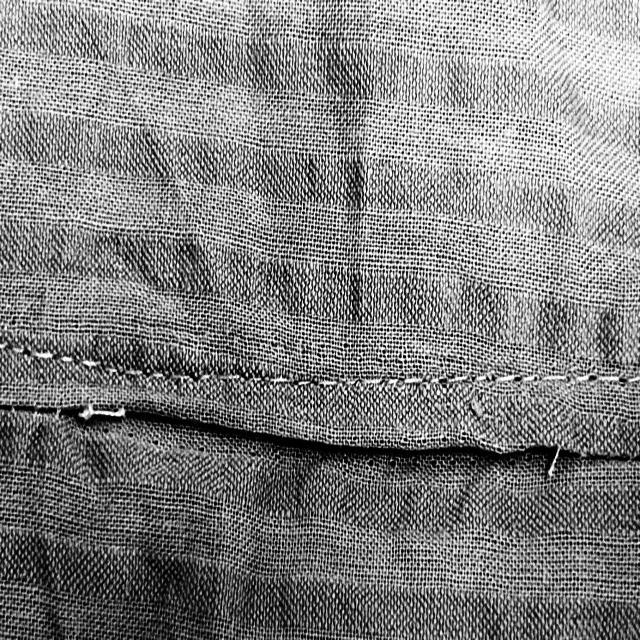Sewing_error: (64, 384, 162, 434), (526, 430, 582, 484)
